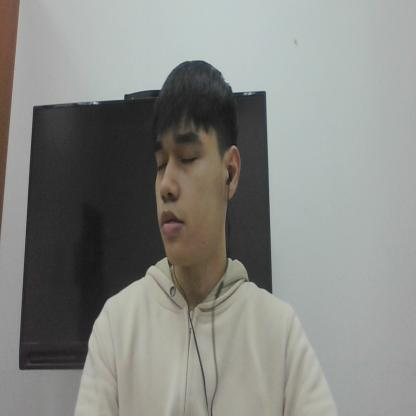Closed-Eyes: (155, 139, 207, 178)
